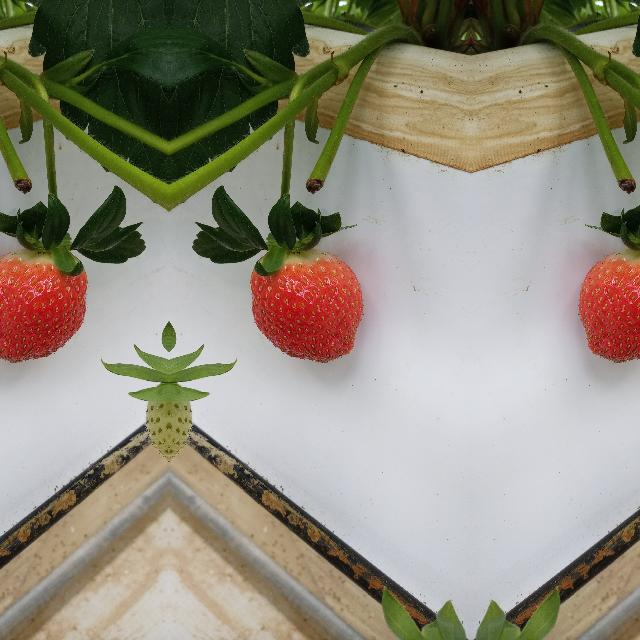Health_100: (248, 248, 364, 364), (0, 248, 87, 363), (577, 248, 640, 363)
